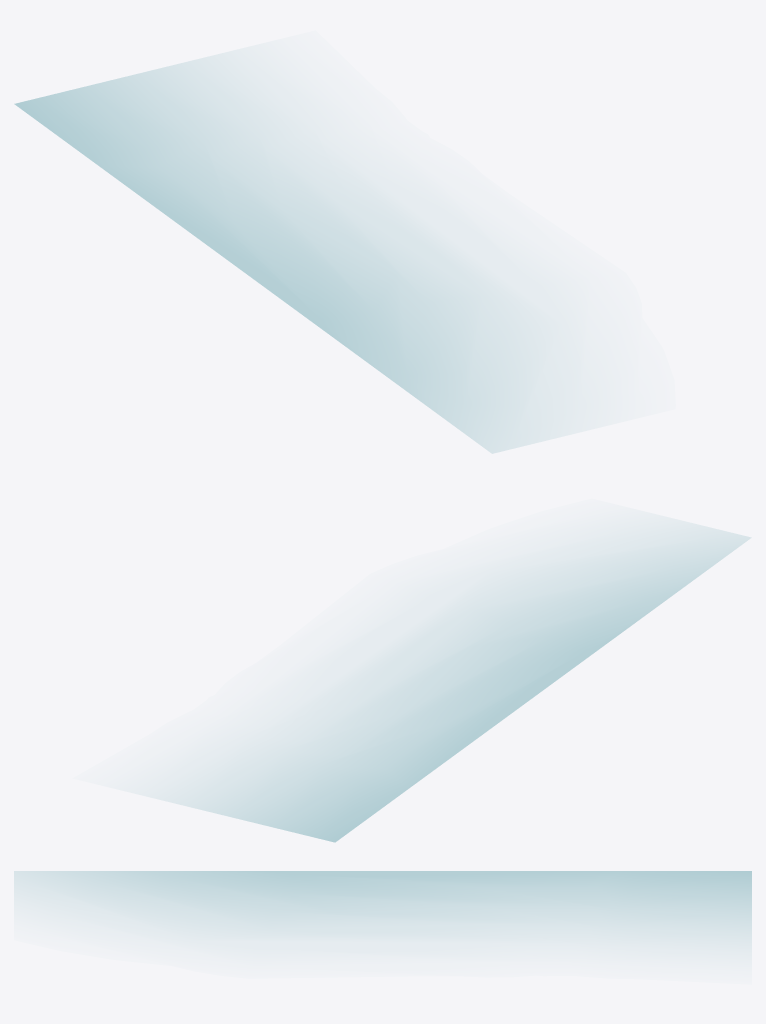
The picture shows the model from 3 angles, top to bottom: view 1: azimuth 30°, elevation 25°; view 2: azimuth 150°, elevation 25°; view 3: azimuth 270°, elevation 25°; orthographic projection. The views are drawn at different scales.
Parts seen in each view (by area): view 1: city; view 2: city; view 3: city.
Part boxes in pixels (box(x1,y1,x2,y2)): city: box(14, 55, 559, 453); city: box(159, 525, 750, 842); city: box(14, 871, 751, 947).
Bounding box in the file's own units: 223 × 0 × 500.
